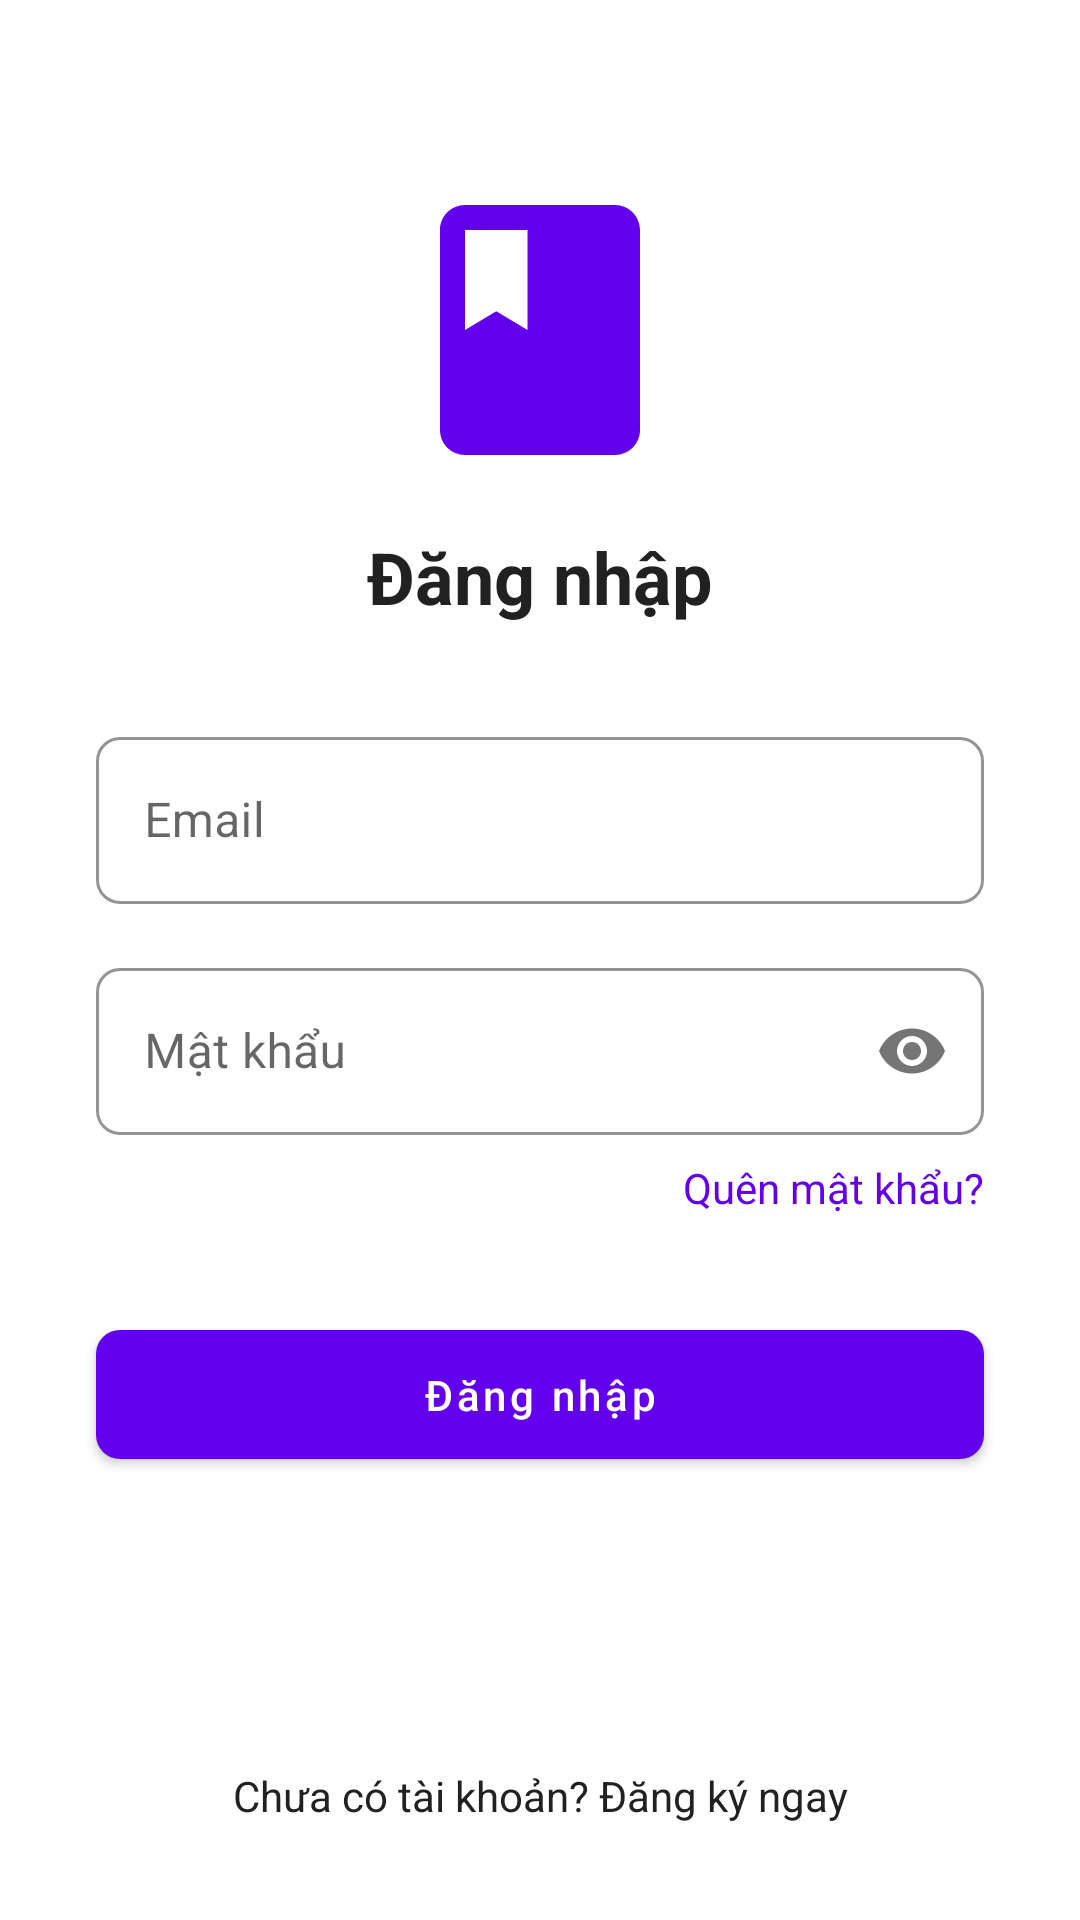

Point at icon controls on the screen. Image size 1080 × 1920, points as [x,y].
book: [540,330]
